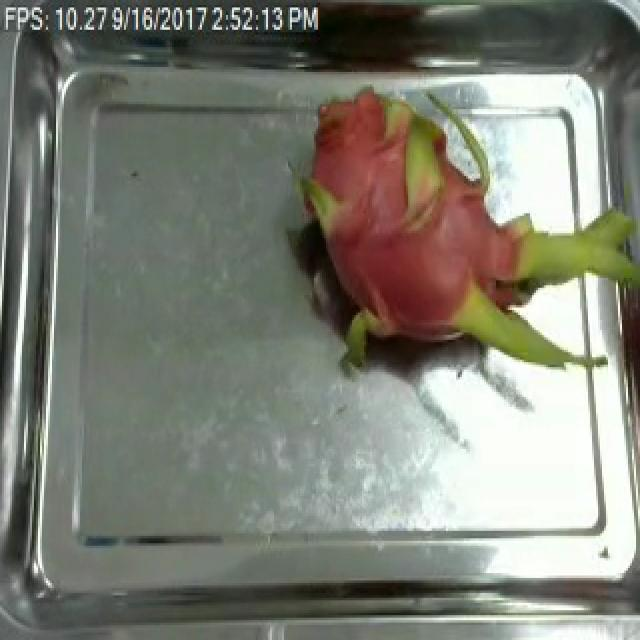fruit: (278, 72, 638, 404)
